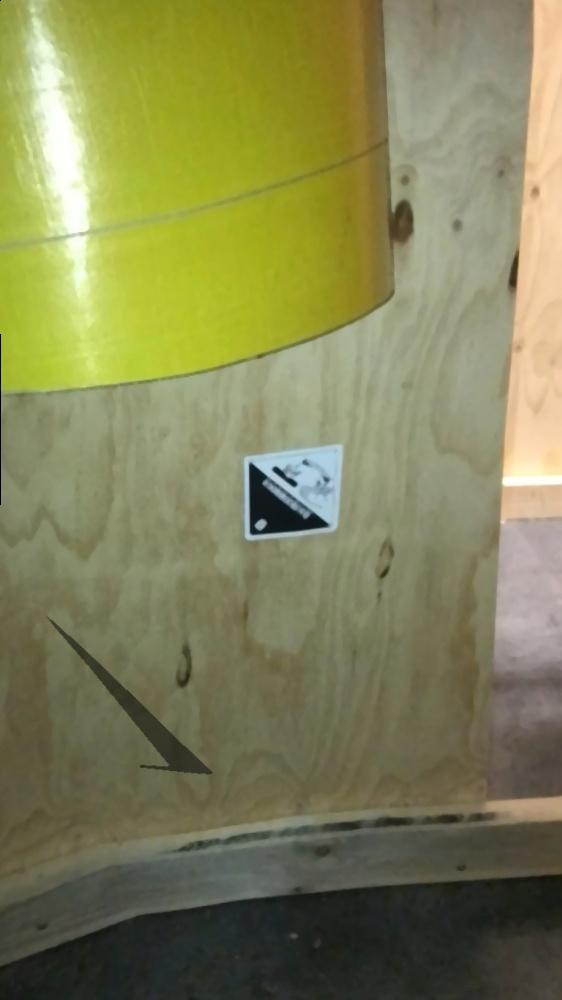corrosive: (243, 440, 345, 542)
